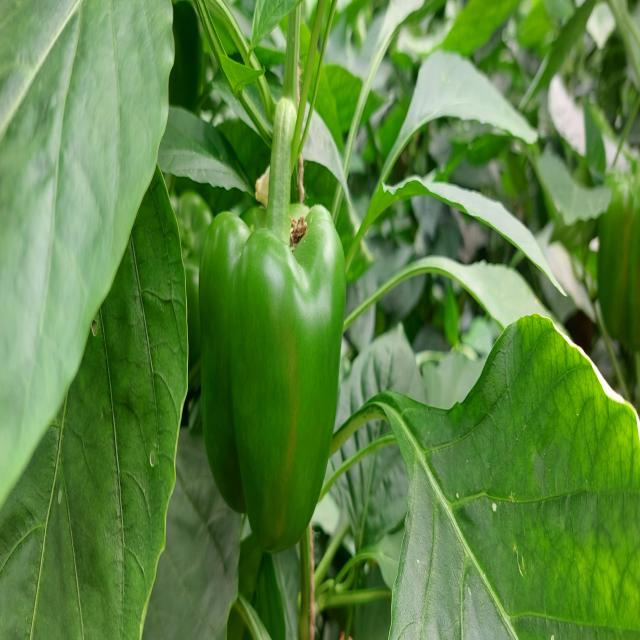Green--Not-ready-to-harvest: (199, 212, 342, 560)
